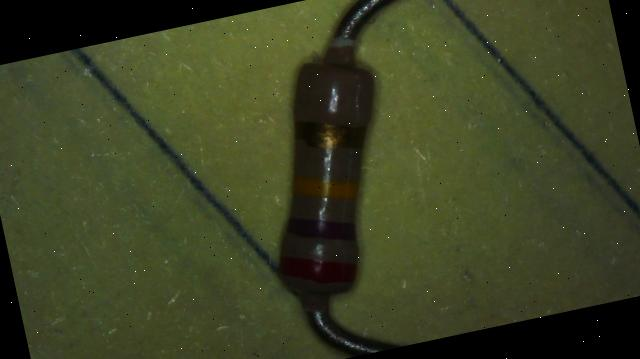gold: (292, 107, 368, 159)
red: (278, 242, 361, 296)
resistor: (265, 44, 406, 314)
violet: (286, 206, 358, 250)
yellow: (290, 164, 360, 210)
